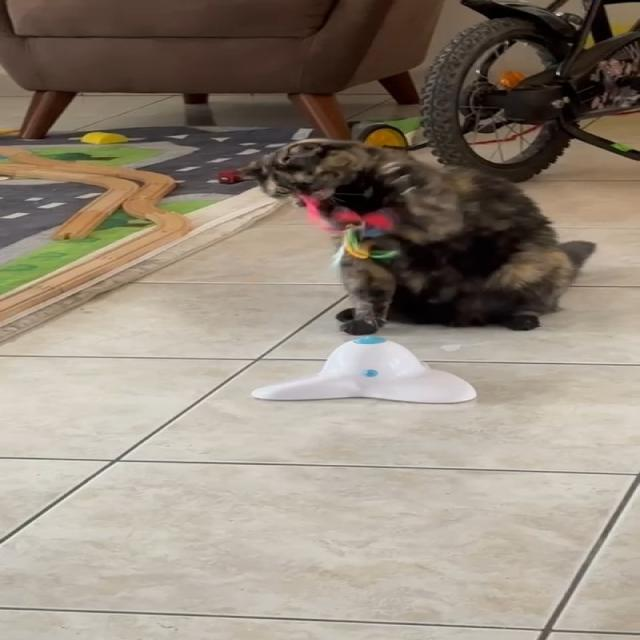authorized: (236, 136, 596, 334)
